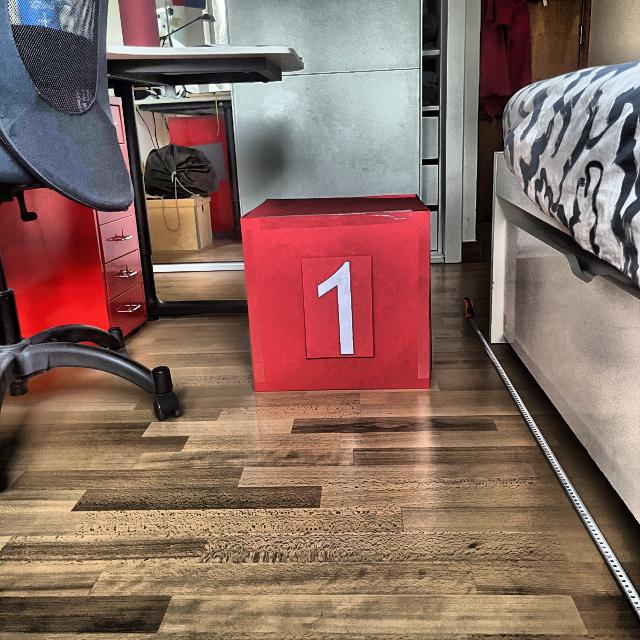one: (302, 257, 368, 359)
red box: (239, 193, 438, 396)
